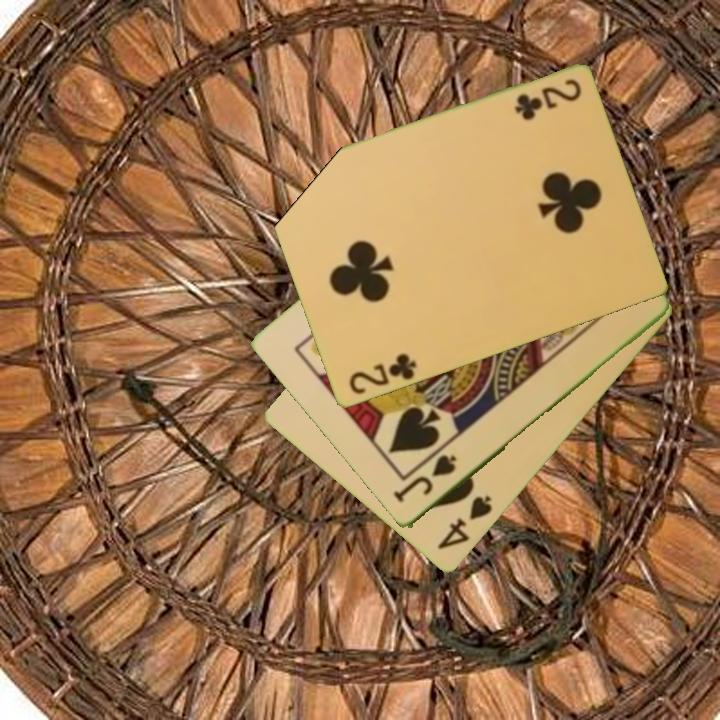2c: (345, 350, 420, 398), (510, 76, 584, 123)
4s: (434, 492, 496, 553)
Js: (391, 451, 460, 506)
